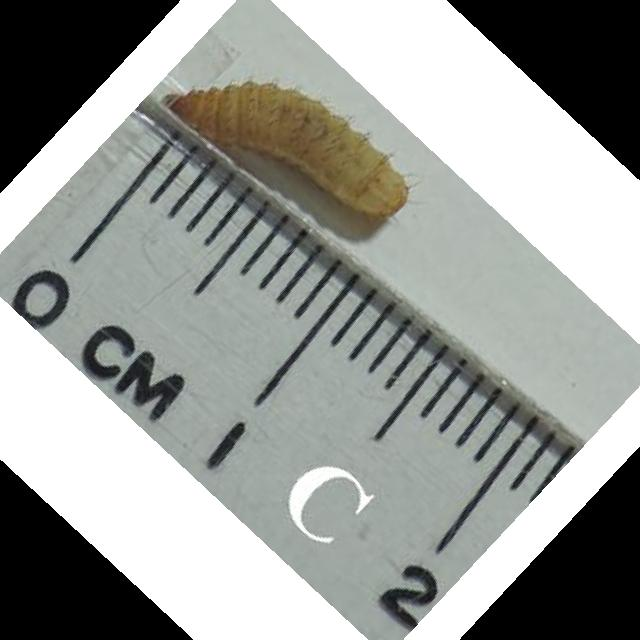Maggot: (171, 83, 412, 224)
